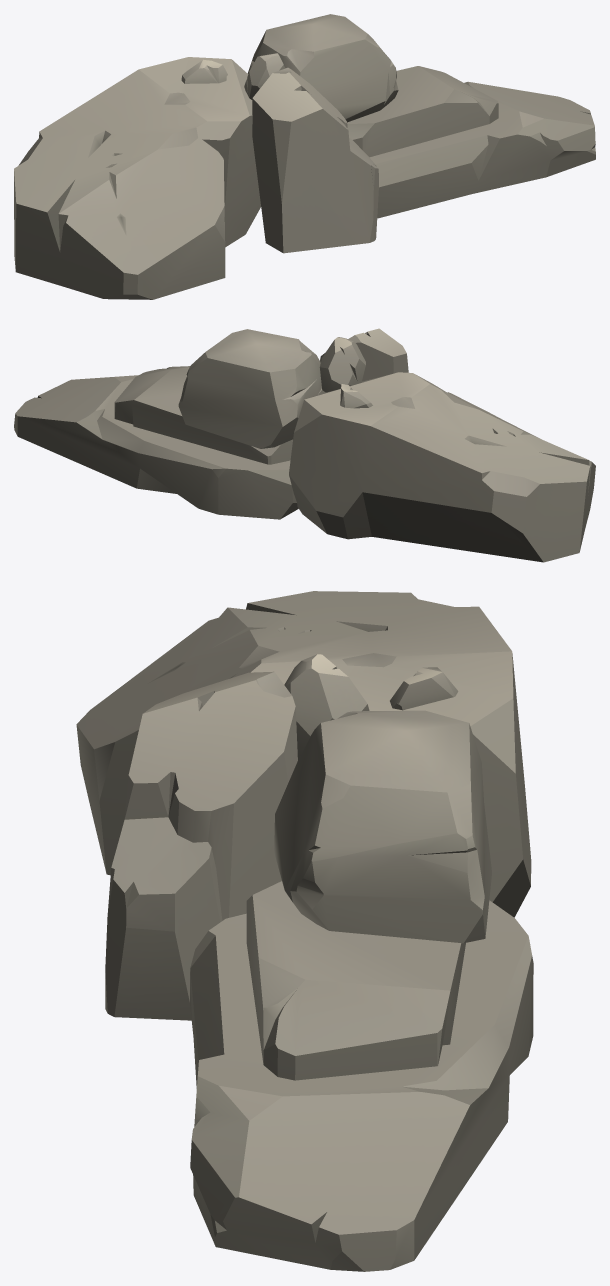
The model's file is Cliff_Horizontal_2B.fbx.
3 views of the same model, one above another, from view 1: azimuth 30°, elevation 25°; view 2: azimuth 150°, elevation 25°; view 3: azimuth 270°, elevation 25° (orthographic). The views are drawn at different scales.
Visible parts, largest first — view 1: Cliff_Horizontal_2B; view 2: Cliff_Horizontal_2B; view 3: Cliff_Horizontal_2B.
Part boxes in pixels (<box>): Cliff_Horizontal_2B: <box>14,14,595,299</box>; Cliff_Horizontal_2B: <box>14,328,595,562</box>; Cliff_Horizontal_2B: <box>76,591,533,1271</box>.
Bounding box in the file's own units: 4414 × 1161 × 1572.
